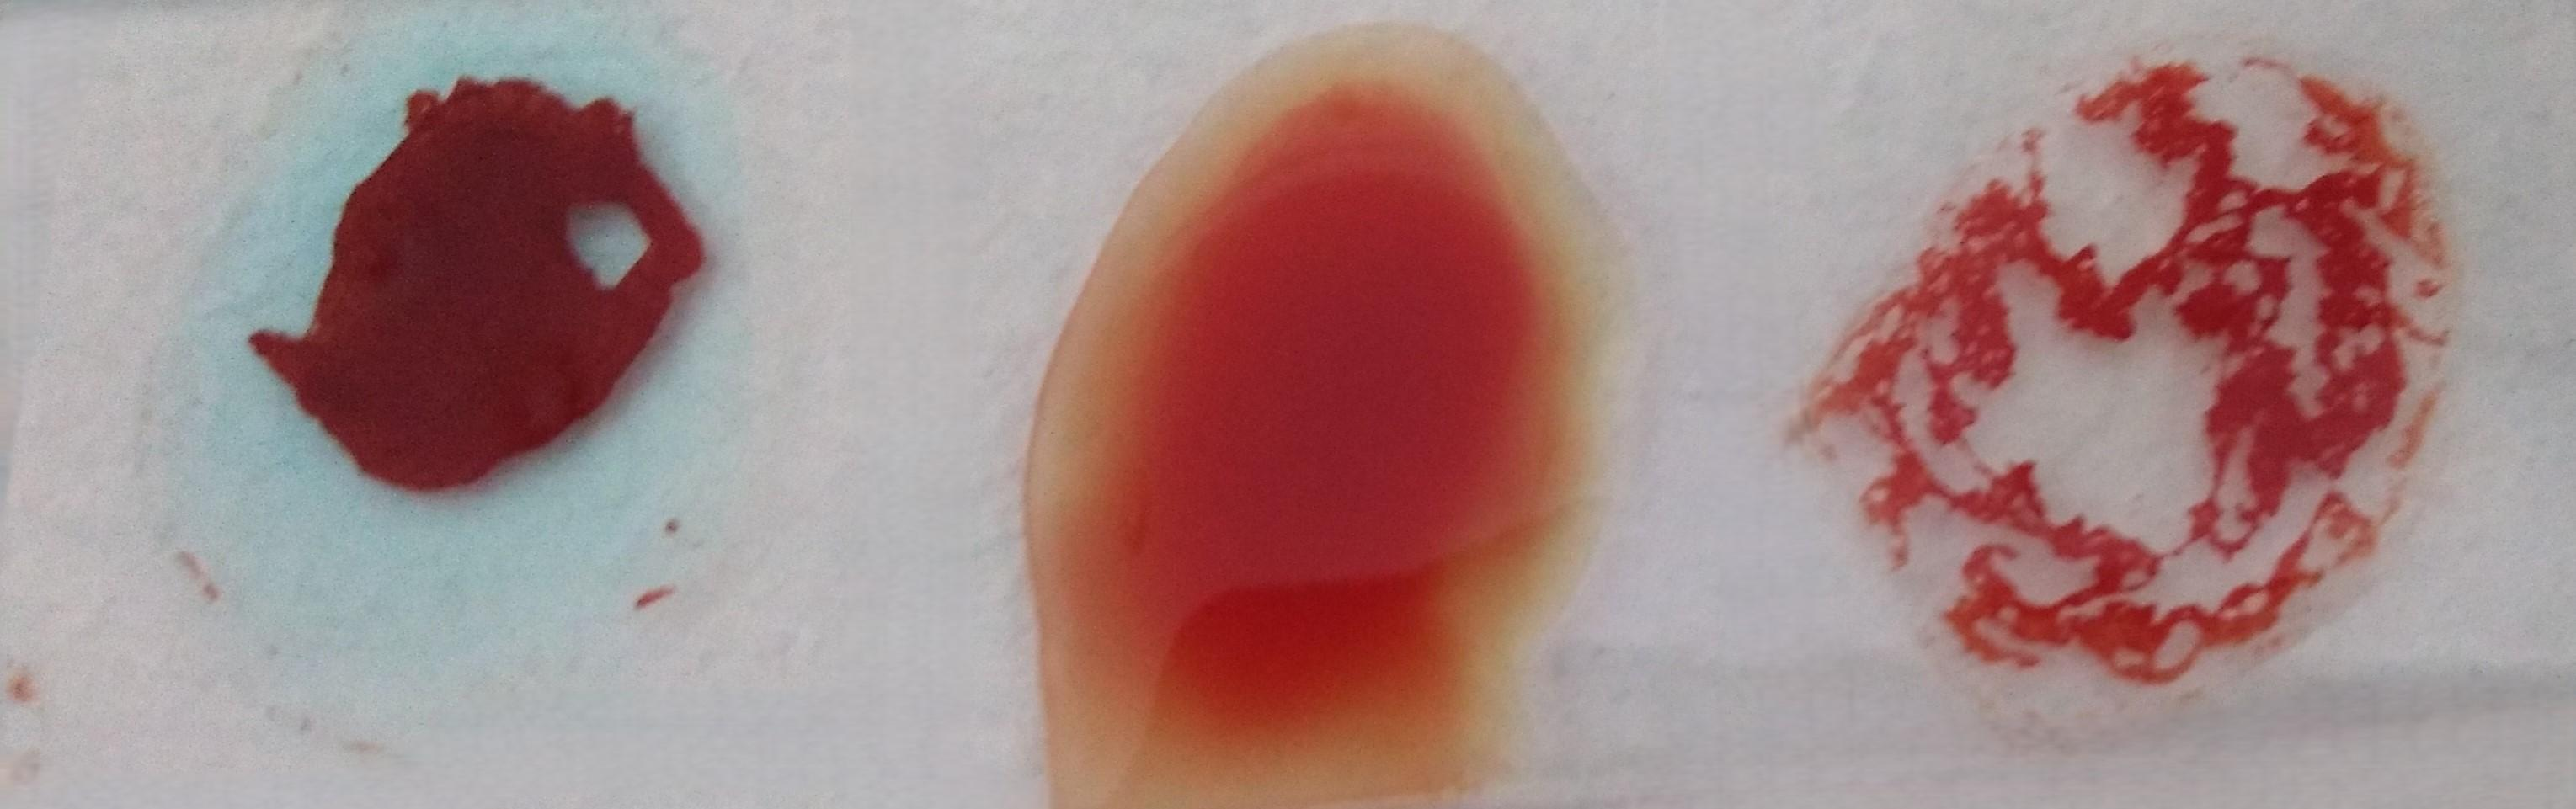A: (177, 20, 716, 702)
D: (1833, 54, 2468, 692)
